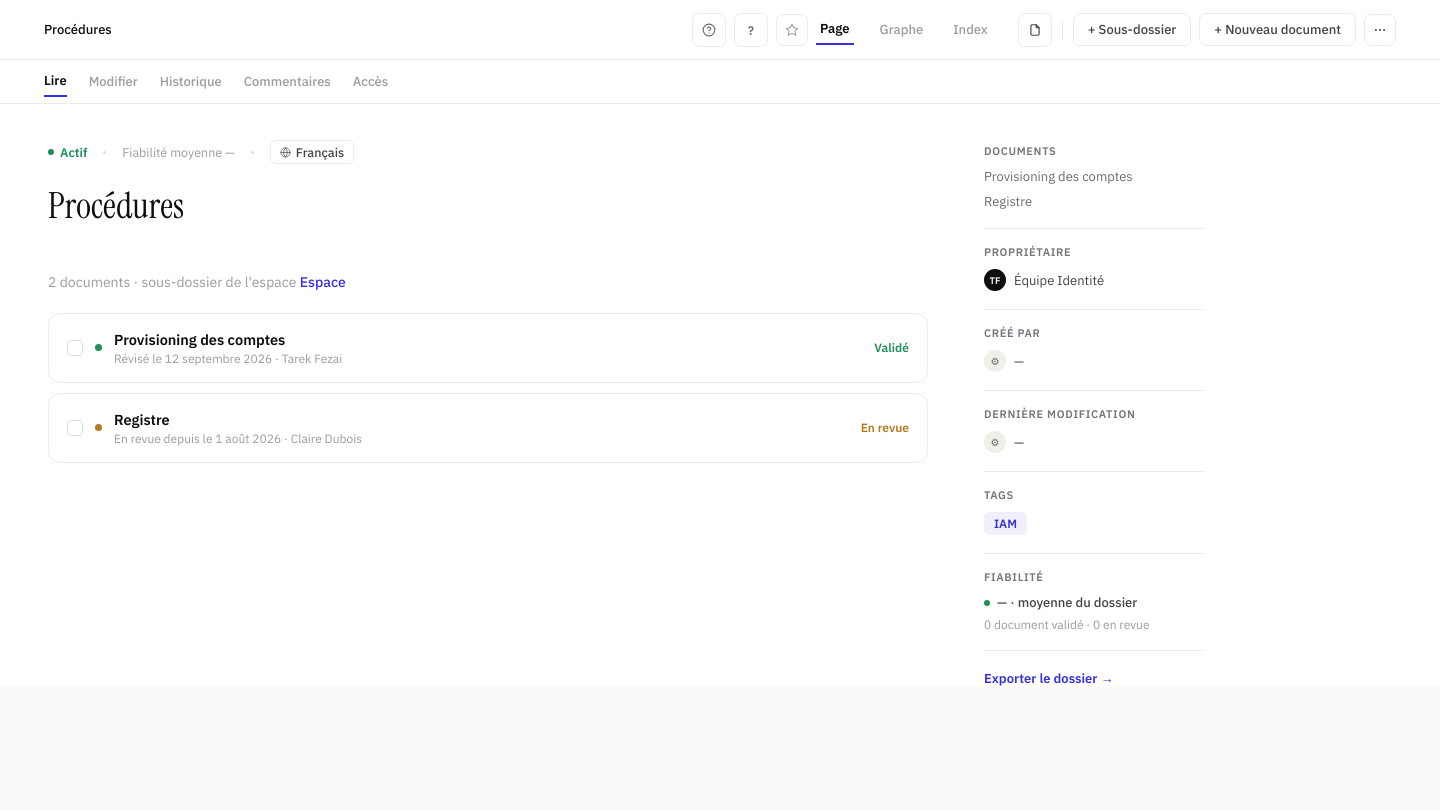
Test: FolderPage › contributeur : menu sans Supprimer
Step 1. Click the button named "Autres actions du dossier" → (1380, 30), box x1=1364 y1=14 x2=1396 y2=46
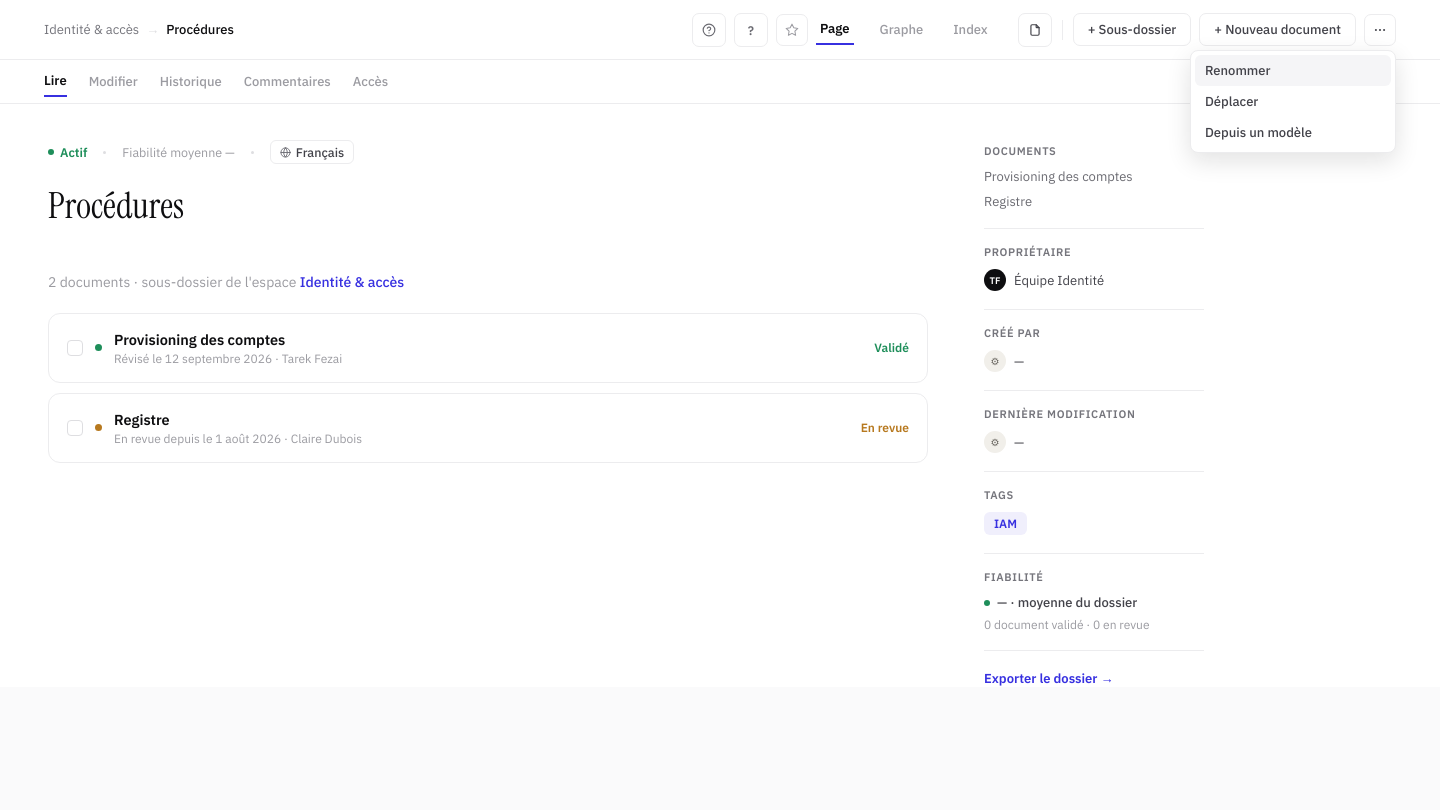
expect the menu item "Renommer" is shown: met, box x1=1195 y1=54 x2=1391 y2=86
expect the menu item "Déplacer" is shown: met, box x1=1195 y1=86 x2=1391 y2=116
expect the menu item "Depuis un modèle" is shown: met, box x1=1195 y1=116 x2=1391 y2=148
Step 2. Press Escape in the menu, box x1=1190 y1=50 x2=1396 y2=152
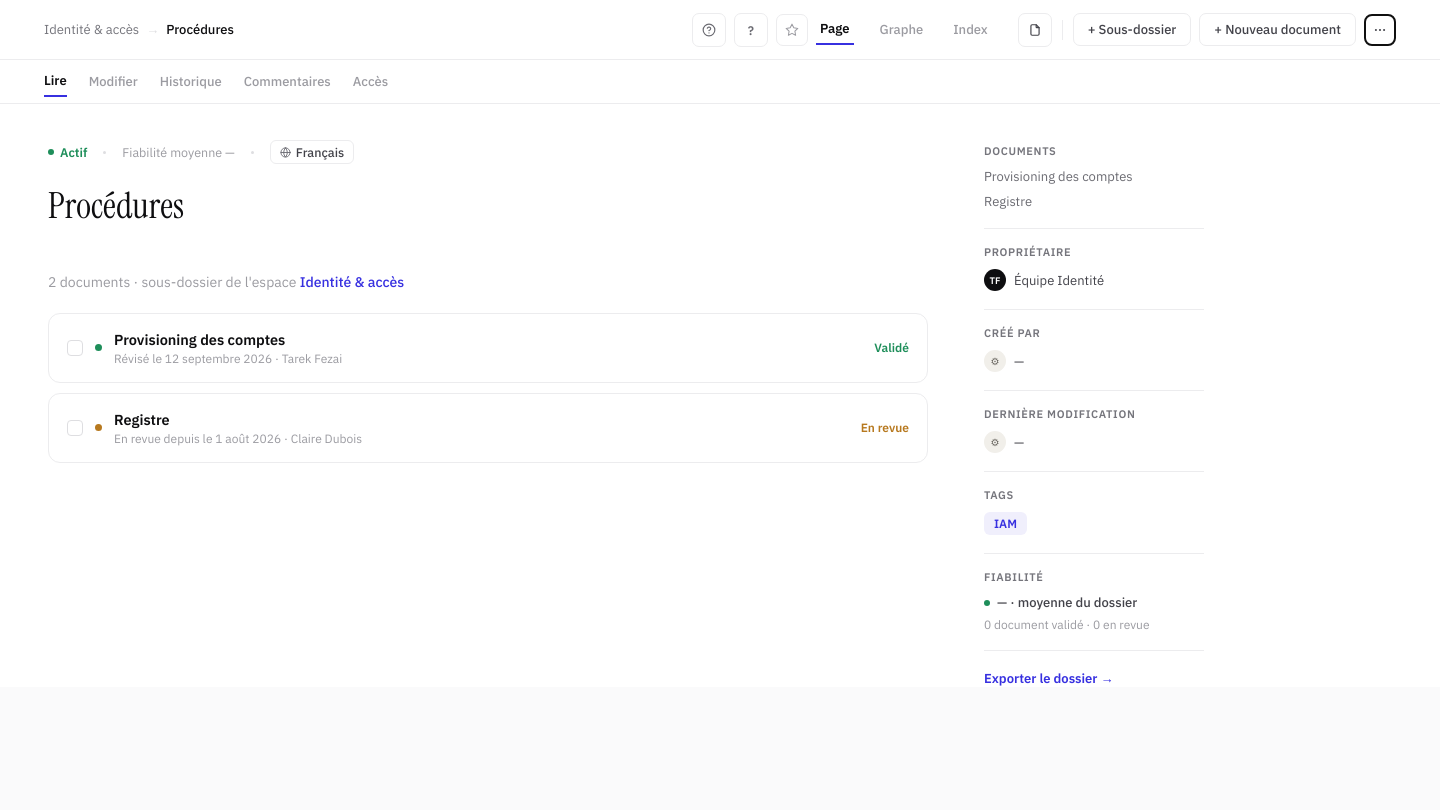
expect the menu is gone: met
